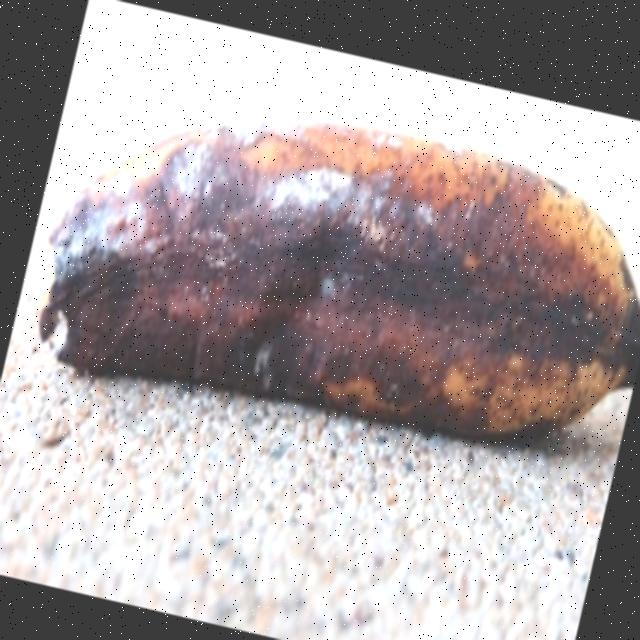Rotten: (3, 33, 640, 520)
